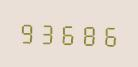eight: (78, 20, 97, 47)
nine: (18, 18, 37, 45)
six: (58, 19, 77, 47), (98, 21, 117, 48)
three: (38, 18, 57, 46)
